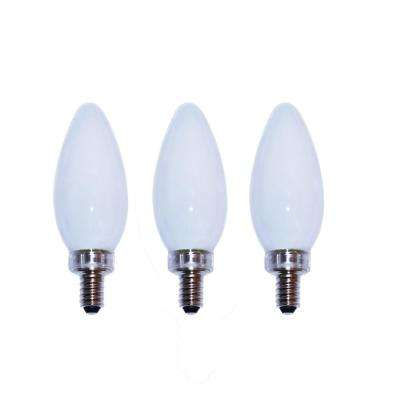Nonrec_Glass: (139, 86, 234, 321), (250, 104, 336, 329), (53, 100, 139, 322)
